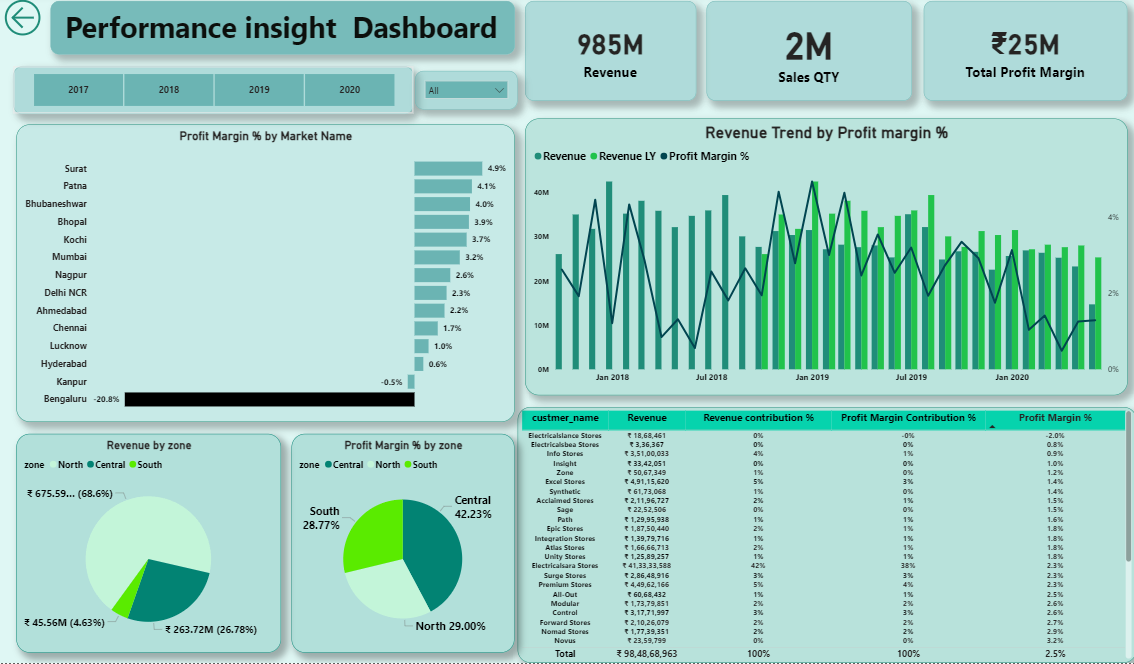

This screenshot's page, from the dashboard's own definition file:
{"tool":"powerbi","page":{"name":"Performance insights","canvas":[1700,1000],"ordinal":3},"visuals":[{"type":"card","fields":{"Values":["Basemeasure.Revenue"]},"box":[785.5,8.9,255.9,149.1],"z":0,"group":"g1"},{"type":"card","fields":{"Values":["Basemeasure.Sales QTY"]},"box":[1057,8.9,307.1,149.1],"z":1000,"group":"g1"},{"type":"slicer","title":"Profit Margin % by Market Name","fields":{"Values":["sales date.year"]},"box":[20,106.8,598.5,71.2],"z":2000,"group":"g1"},{"type":"slicer","fields":{"Values":["sales date.cy_date"]},"box":[620.8,113.5,153.5,57.8],"z":3000,"group":"g1"},{"type":"clusteredBarChart","title":"Profit Margin %  by Market Name","fields":{"Category":["sales markets.State"],"Y":["Basemeasure.Profit Margin %"]},"box":[24.5,193.6,745.4,445],"z":4000,"group":"g1"},{"type":"tableEx","fields":{"Values":["sales customers.custmer_name","Basemeasure.Revenue","Basemeasure.Revenue contribution %","Basemeasure.Profit Margin Contribution %","Basemeasure.Profit Margin %"]},"box":[774.4,616.4,925.7,382.7],"z":5000},{"type":"card","fields":{"Values":["Basemeasure.Total Profit Margin"]},"box":[1381.8,8.9,304.8,149.1],"z":6000,"group":"g1"},{"type":"lineClusteredColumnComboChart","title":"  Revenue Trend by Profit margin %","fields":{"Category":["sales date.cy_date"],"Y":["Basemeasure.Revenue","Basemeasure.Revenue LY"],"Y2":["Basemeasure.Profit Margin %"]},"box":[785.5,184.7,901.2,413.9],"z":7000,"group":"g1"},{"type":"textbox","box":[75.7,8.9,694.2,80.1],"z":8000,"group":"g1"},{"type":"actionButton","box":[0,0,99.8,67.6],"z":9000,"group":"g1"},{"type":"pieChart","fields":{"Category":["sales markets.zone"],"Y":["Basemeasure.Profit Margin %"]},"box":[436.1,656.4,333.8,327.1],"z":10000,"group":"g1"},{"type":"pieChart","fields":{"Category":["sales markets.zone"],"Y":["Basemeasure.Revenue"]},"box":[24.5,656.4,396.1,327.1],"z":11000,"group":"g1"},{"type":"group","id":"g1","title":"Group 1","box":[0,0,1686.7,983.5],"z":11001}]}

Visuals, with their boxes in screenshot pixels (x1, y1, x2, y2), scaled from the page's 1700x1000 canvas onto the 1134x664 screenshot:
card - Basemeasure.Revenue: bbox=[524, 6, 695, 105]
card - Basemeasure.Sales QTY: bbox=[705, 6, 910, 105]
"Profit Margin % by Market Name" slicer: bbox=[13, 71, 413, 118]
slicer - sales date.cy_date: bbox=[414, 75, 517, 114]
"Profit Margin %  by Market Name" clusteredBarChart: bbox=[16, 129, 514, 424]
tableEx - sales customers.custmer_name x Basemeasure.Revenue: bbox=[517, 409, 1133, 663]
card - Basemeasure.Total Profit Margin: bbox=[922, 6, 1125, 105]
"  Revenue Trend by Profit margin %" lineClusteredColumnComboChart: bbox=[524, 123, 1125, 397]
textbox: bbox=[50, 6, 514, 59]
actionButton: bbox=[0, 0, 67, 45]
pieChart - sales markets.zone x Basemeasure.Profit Margin %: bbox=[291, 436, 514, 653]
pieChart - sales markets.zone x Basemeasure.Revenue: bbox=[16, 436, 281, 653]
"Group 1" group: bbox=[0, 0, 1125, 653]
